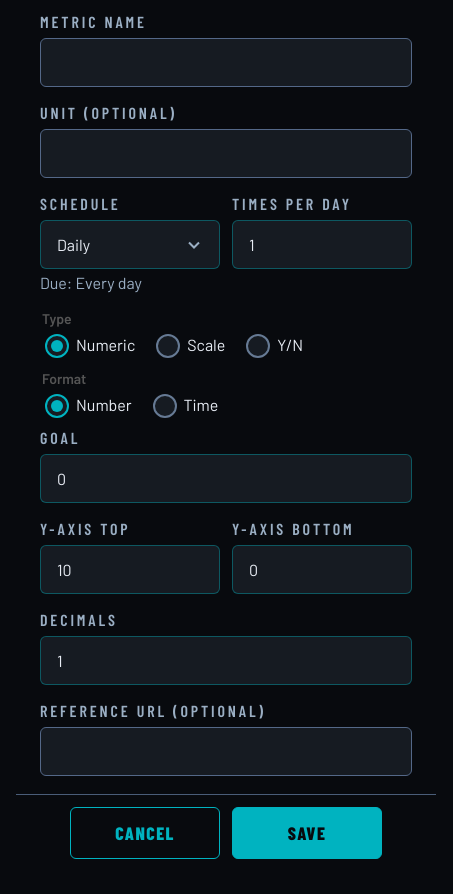
Test: CustomMetricForm — top-level type chooser › preserves in-progress Scale rows across a Y/N detour
Click the radio button labelled "Scale".
click(168, 346)  # box [156,334,180,358]
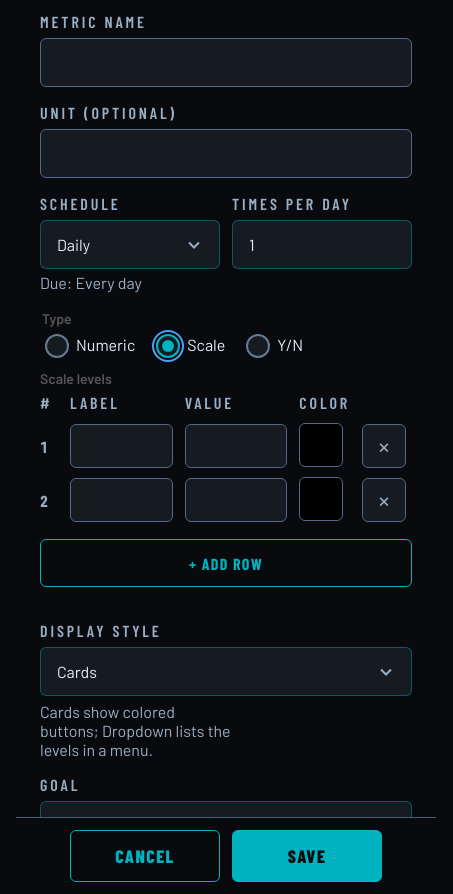
Note: Type into the two seeded rows.
Type "Low" into the 1st field named "label".
click(121, 446); type("Low")  # box [70,424,173,468]
Type "1" into the 1st number field named "value".
click(236, 446); type("1")  # box [185,424,287,468]
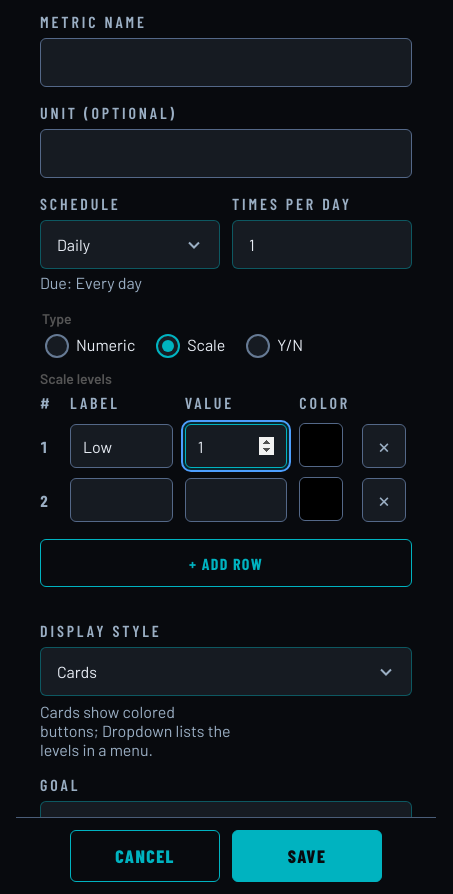
Type "High" into the 2nd field named "label".
click(121, 500); type("High")  # box [70,478,173,522]
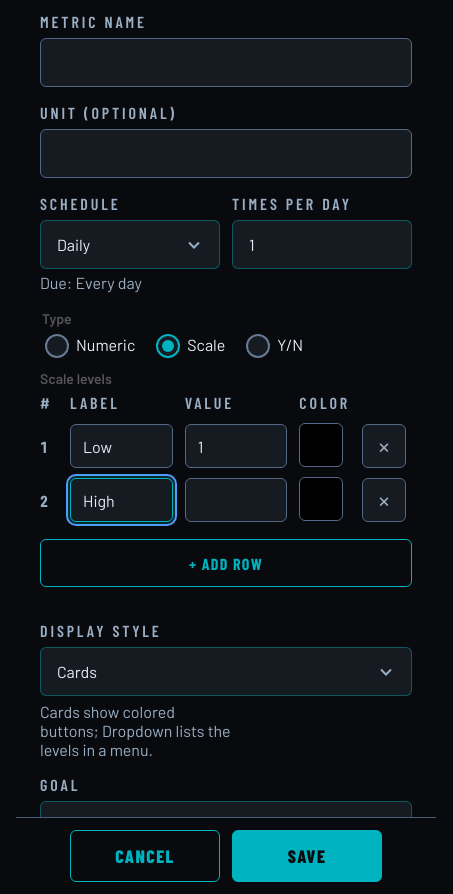
Type "9" into the 2nd number field named "value".
click(236, 500); type("9")  # box [185,478,287,522]
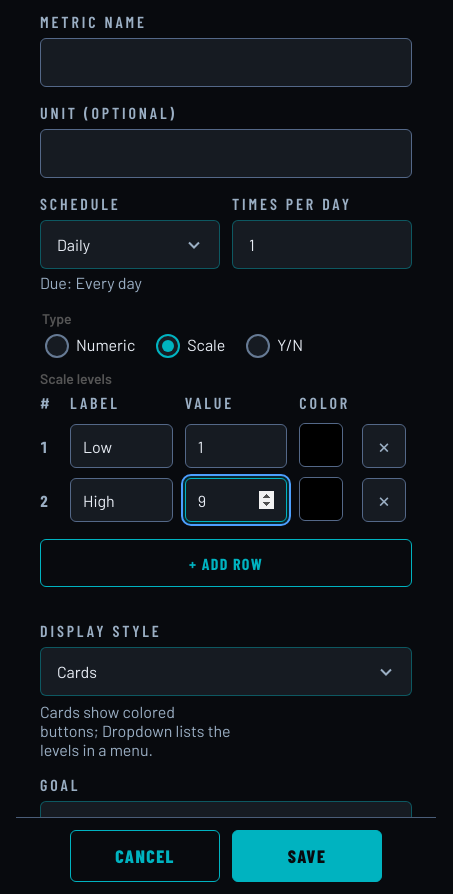
Click the radio button labelled "Y/N".
click(258, 346)  # box [246,334,270,358]
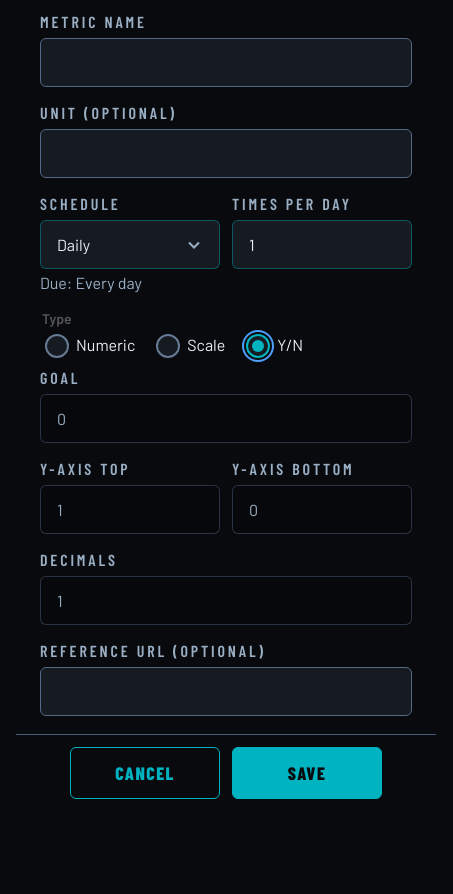
Result: the table is gone
Note: Back to Scale - the user's rows are restored.
Click the radio button labelled "Scale".
click(168, 346)  # box [156,334,180,358]
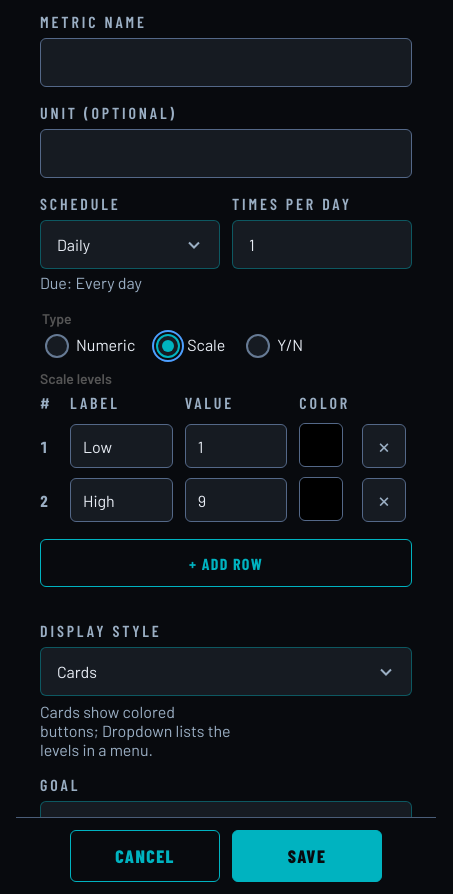
Result: the 1st field named "Label for row 1" holds "Low" at [70,424,173,468]
Result: the 1st number field named "Value for row 1" holds "1" at [185,424,287,468]
Result: the 2nd field named "Label for row 2" holds "High" at [70,478,173,522]
